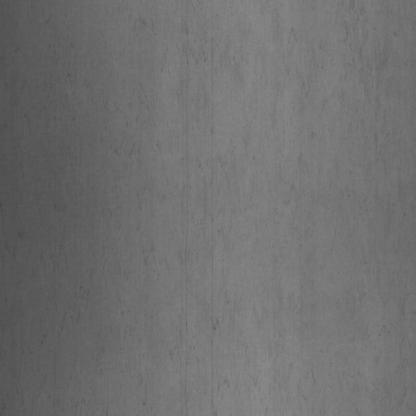silk_spot: (279, 21, 411, 397), (138, 138, 260, 384), (133, 5, 260, 127)
